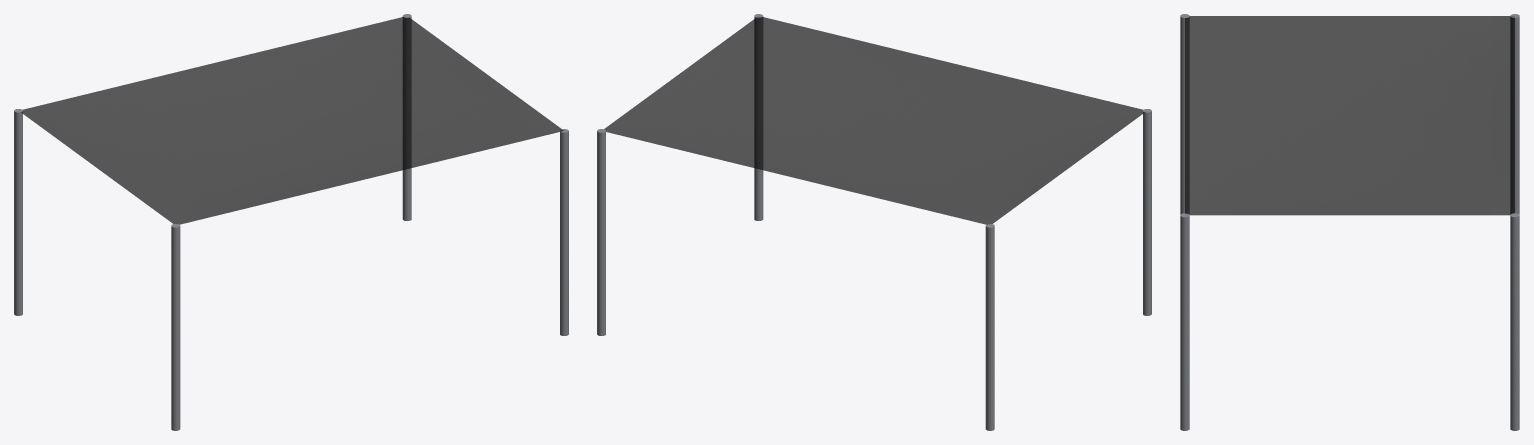
Rendered from TelemSmallReshetTzel_LOD0.gltf.
3 renders of one model, left to right at view 1: azimuth 30°, elevation 25°; view 2: azimuth 150°, elevation 25°; view 3: azimuth 270°, elevation 25°, orthographic. The views are drawn at different scales.
Visible parts, largest first — view 1: node2, node1; view 2: node2, node1; view 3: node2, node1.
Part boxes in pixels (x1,y1,x2,y2): node2: (21,17,563,224); node1: (14,14,568,430); node2: (604,17,1144,224); node1: (597,14,1151,430); node2: (1185,16,1514,215); node1: (1180,14,1519,430).
Bounding box in the file's own units: 5.1 × 2.5 × 3.6.
